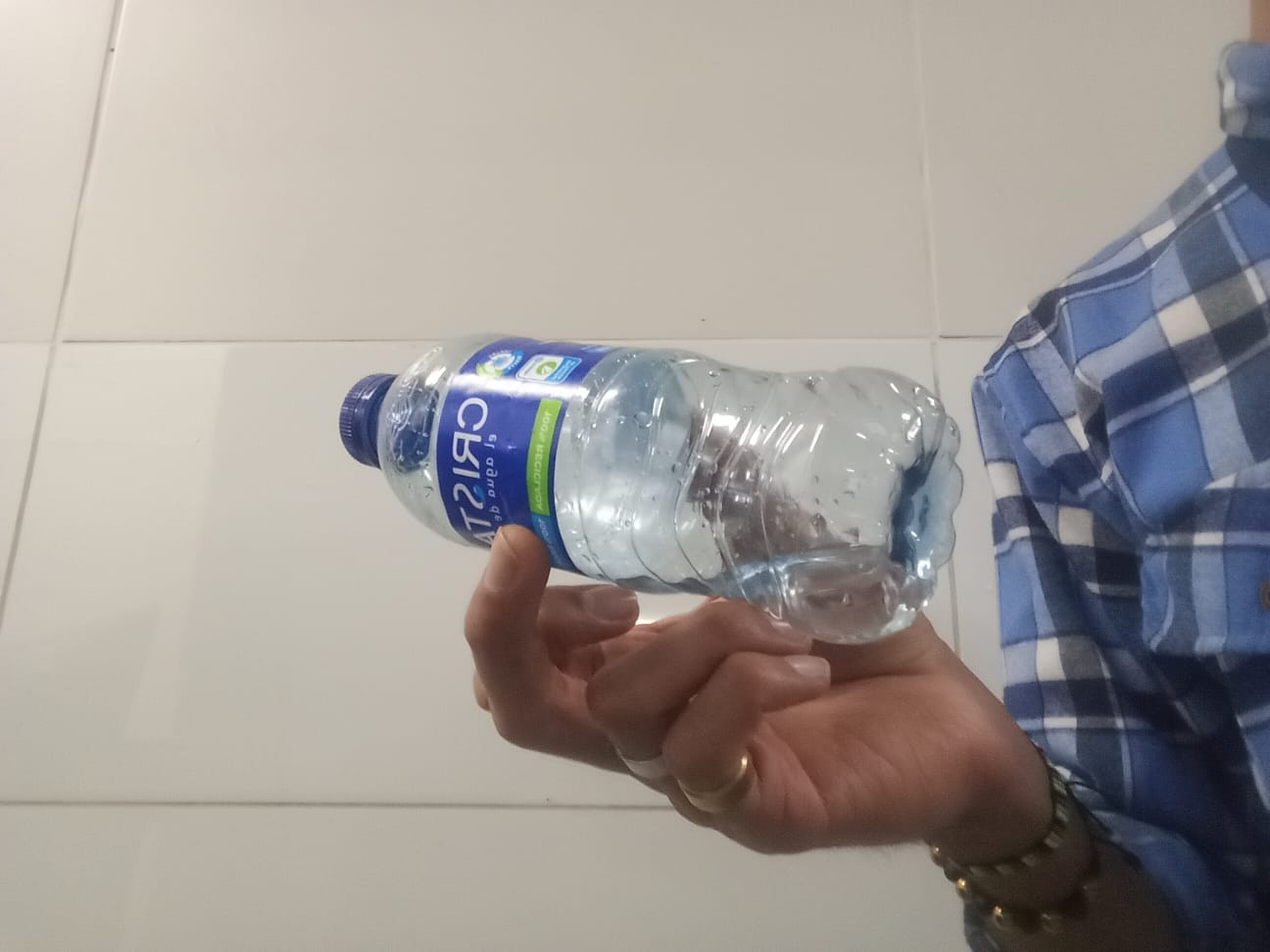Plastico: (340, 332, 964, 645)
